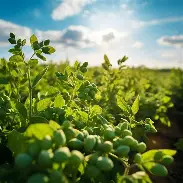crops: (0, 32, 175, 181), (110, 67, 179, 96)
